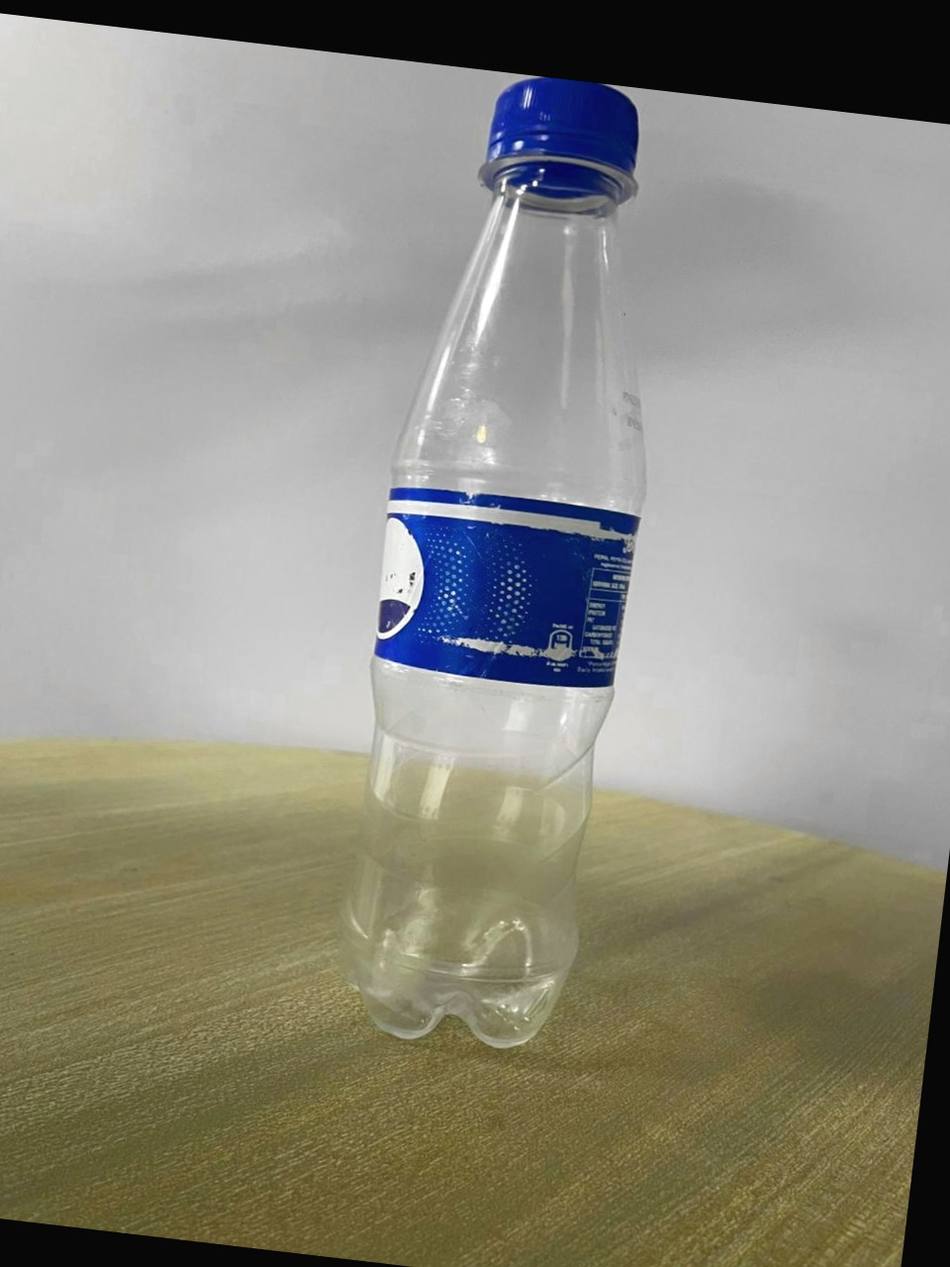Pepsi Bottle: (309, 63, 719, 1084), (309, 63, 714, 1080)
